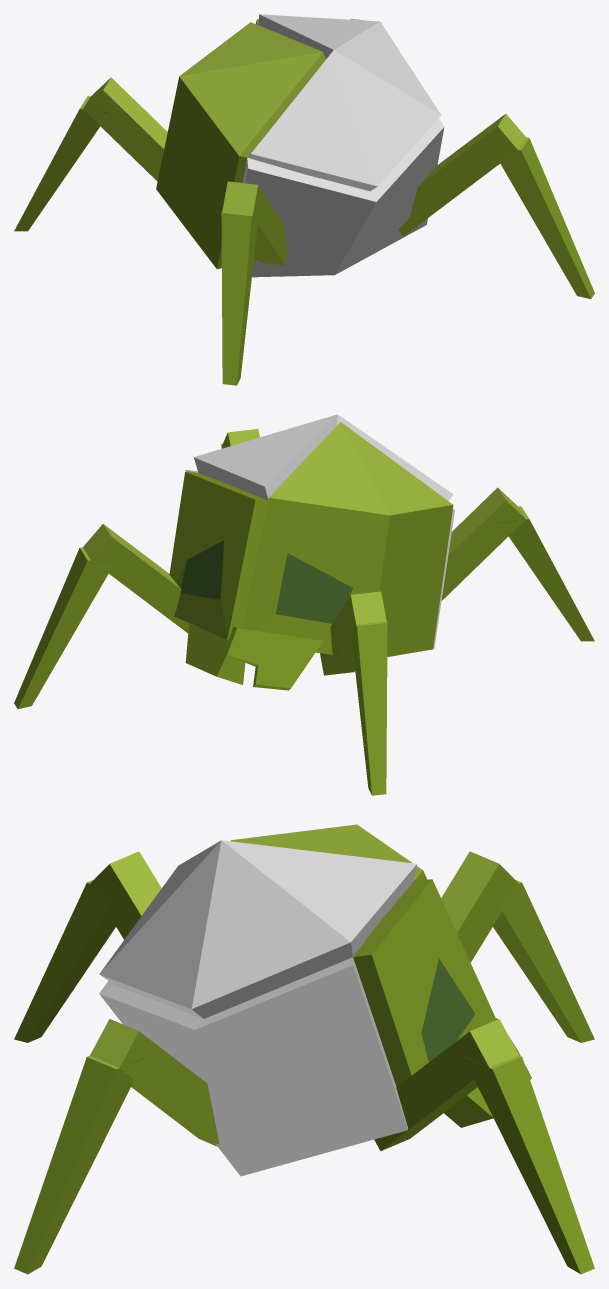
File: skullSpider_parts.fbx
3 renders of one model, top to bottom at view 1: azimuth 30°, elevation 25°; view 2: azimuth 150°, elevation 25°; view 3: azimuth 270°, elevation 25°, orthographic. The views are drawn at different scales.
Parts seen in each view (by area): view 1: Mesh_SkullSpider.013, Mesh_SkullSpider.012, Mesh_SkullSpider.002, Mesh_SkullSpider.007, Mesh_SkullSpider.010, Mesh_SkullSpider.009, Mesh_SkullSpider.004, Mesh_SkullSpider.003, Mesh_SkullSpider.008; view 2: Mesh_SkullSpider.012, Mesh_SkullSpider.011, Mesh_SkullSpider.013, Mesh_SkullSpider.003, Mesh_SkullSpider.006, Mesh_SkullSpider.008, Mesh_SkullSpider.005, Mesh_SkullSpider.007, Mesh_SkullSpider.004; view 3: Mesh_SkullSpider.002, Mesh_SkullSpider.013, Mesh_SkullSpider.011, Mesh_SkullSpider.006, Mesh_SkullSpider.009, Mesh_SkullSpider.010, Mesh_SkullSpider.005, Mesh_SkullSpider.003, Mesh_SkullSpider.007, Mesh_SkullSpider.004, Mesh_SkullSpider.008, Mesh_SkullSpider.012.
Boxes of the visible parts, x1,y1,x2,y2 form: Mesh_SkullSpider.013: [247, 14, 440, 191]; Mesh_SkullSpider.012: [156, 22, 325, 269]; Mesh_SkullSpider.002: [242, 118, 444, 277]; Mesh_SkullSpider.007: [221, 211, 258, 385]; Mesh_SkullSpider.010: [398, 114, 525, 236]; Mesh_SkullSpider.009: [496, 137, 594, 298]; Mesh_SkullSpider.004: [83, 77, 167, 181]; Mesh_SkullSpider.003: [14, 96, 109, 231]; Mesh_SkullSpider.008: [222, 181, 287, 265]; Mesh_SkullSpider.012: [243, 422, 453, 656]; Mesh_SkullSpider.011: [169, 472, 323, 690]; Mesh_SkullSpider.013: [193, 414, 453, 500]; Mesh_SkullSpider.003: [350, 621, 387, 795]; Mesh_SkullSpider.006: [14, 547, 112, 709]; Mesh_SkullSpider.008: [441, 487, 525, 600]; Mesh_SkullSpider.005: [83, 524, 188, 633]; Mesh_SkullSpider.007: [499, 506, 594, 641]; Mesh_SkullSpider.004: [320, 591, 386, 675]; Mesh_SkullSpider.002: [99, 957, 407, 1176]; Mesh_SkullSpider.013: [99, 840, 416, 1018]; Mesh_SkullSpider.011: [353, 879, 531, 1127]; Mesh_SkullSpider.006: [463, 1055, 594, 1274]; Mesh_SkullSpider.009: [14, 1055, 145, 1274]; Mesh_SkullSpider.010: [90, 1019, 219, 1146]; Mesh_SkullSpider.005: [374, 1019, 518, 1151]; Mesh_SkullSpider.003: [493, 879, 594, 1042]; Mesh_SkullSpider.007: [14, 879, 115, 1042]; Mesh_SkullSpider.004: [441, 851, 518, 962]; Mesh_SkullSpider.008: [90, 851, 161, 939]; Mesh_SkullSpider.012: [230, 824, 427, 881].
Size of the model in its own units: 1.61 by 1.64 by 0.9758.
